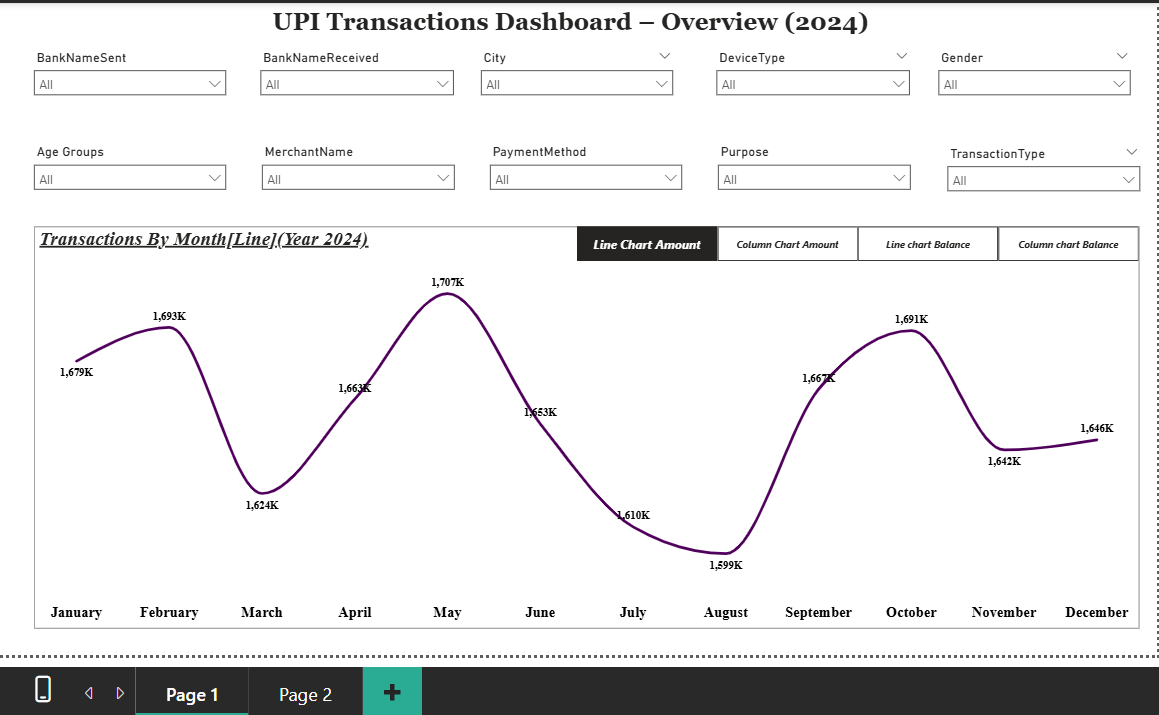

The page's visual inventory and layout, read from the dashboard file:
{"tool":"powerbi","page":{"name":"Page 1","canvas":[1280,720],"ordinal":0},"visuals":[{"type":"slicer","fields":{"Values":["UPI Transactions.BankNameSent"]},"box":[29.8,46.4,231.9,79.5],"z":0},{"type":"slicer","fields":{"Values":["UPI Transactions.City"]},"box":[523.4,46.4,231.9,79.5],"z":1000},{"type":"slicer","fields":{"Values":["UPI Transactions.BankNameReceived"]},"box":[279.9,46.4,233.6,79.5],"z":2000},{"type":"slicer","fields":{"Values":["UPI Transactions.DeviceType"]},"box":[783.5,46.4,233.6,79.5],"z":3000},{"type":"slicer","fields":{"Values":["UPI Transactions.Gender"]},"box":[1028.7,46.4,231.9,77.9],"z":4000},{"type":"slicer","fields":{"Values":["UPI Transactions.Age Groups"]},"box":[30,151.5,232,80],"z":5000},{"type":"slicer","fields":{"Values":["UPI Transactions.PaymentMethod"]},"box":[534,151.5,232,79.4],"z":6000},{"type":"slicer","fields":{"Values":["UPI Transactions.MerchantName"]},"box":[282,151.5,232.4,79.4],"z":7000},{"type":"slicer","fields":{"Values":["UPI Transactions.Purpose"]},"box":[786,151.5,232.4,79.4],"z":8000},{"type":"slicer","fields":{"Values":["UPI Transactions.TransactionType"]},"box":[1038,152.3,232.4,79.4],"z":9000},{"type":"lineChart","title":"Transactions By Month[Line](Year 2024)","fields":{"Category":["UPI Transactions.TransactionDate.Variation.Date Hierarchy.Month"],"Y":["Sum(UPI Transactions.Amount)"]},"box":[39.8,246.8,1220.8,443.9],"z":10000},{"type":"bookmarkNavigator","box":[639.4,246.8,621.2,38.1],"z":14000},{"type":"textbox","box":[298.2,0,704,53],"z":15000}]}

Visuals, with their boxes on the page's 1280x720 design canvas (x1, y1, x2, y2). These are canvas units, not pixel positions in the 1159x715 screenshot, which may show the page scaled, cropped or inside an application window:
slicer - UPI Transactions.BankNameSent: Rect(30, 46, 262, 126)
slicer - UPI Transactions.City: Rect(523, 46, 755, 126)
slicer - UPI Transactions.BankNameReceived: Rect(280, 46, 514, 126)
slicer - UPI Transactions.DeviceType: Rect(784, 46, 1017, 126)
slicer - UPI Transactions.Gender: Rect(1029, 46, 1261, 124)
slicer - UPI Transactions.Age Groups: Rect(30, 152, 262, 232)
slicer - UPI Transactions.PaymentMethod: Rect(534, 152, 766, 231)
slicer - UPI Transactions.MerchantName: Rect(282, 152, 514, 231)
slicer - UPI Transactions.Purpose: Rect(786, 152, 1018, 231)
slicer - UPI Transactions.TransactionType: Rect(1038, 152, 1270, 232)
"Transactions By Month[Line](Year 2024)" lineChart: Rect(40, 247, 1261, 691)
bookmarkNavigator: Rect(639, 247, 1261, 285)
textbox: Rect(298, 0, 1002, 53)
